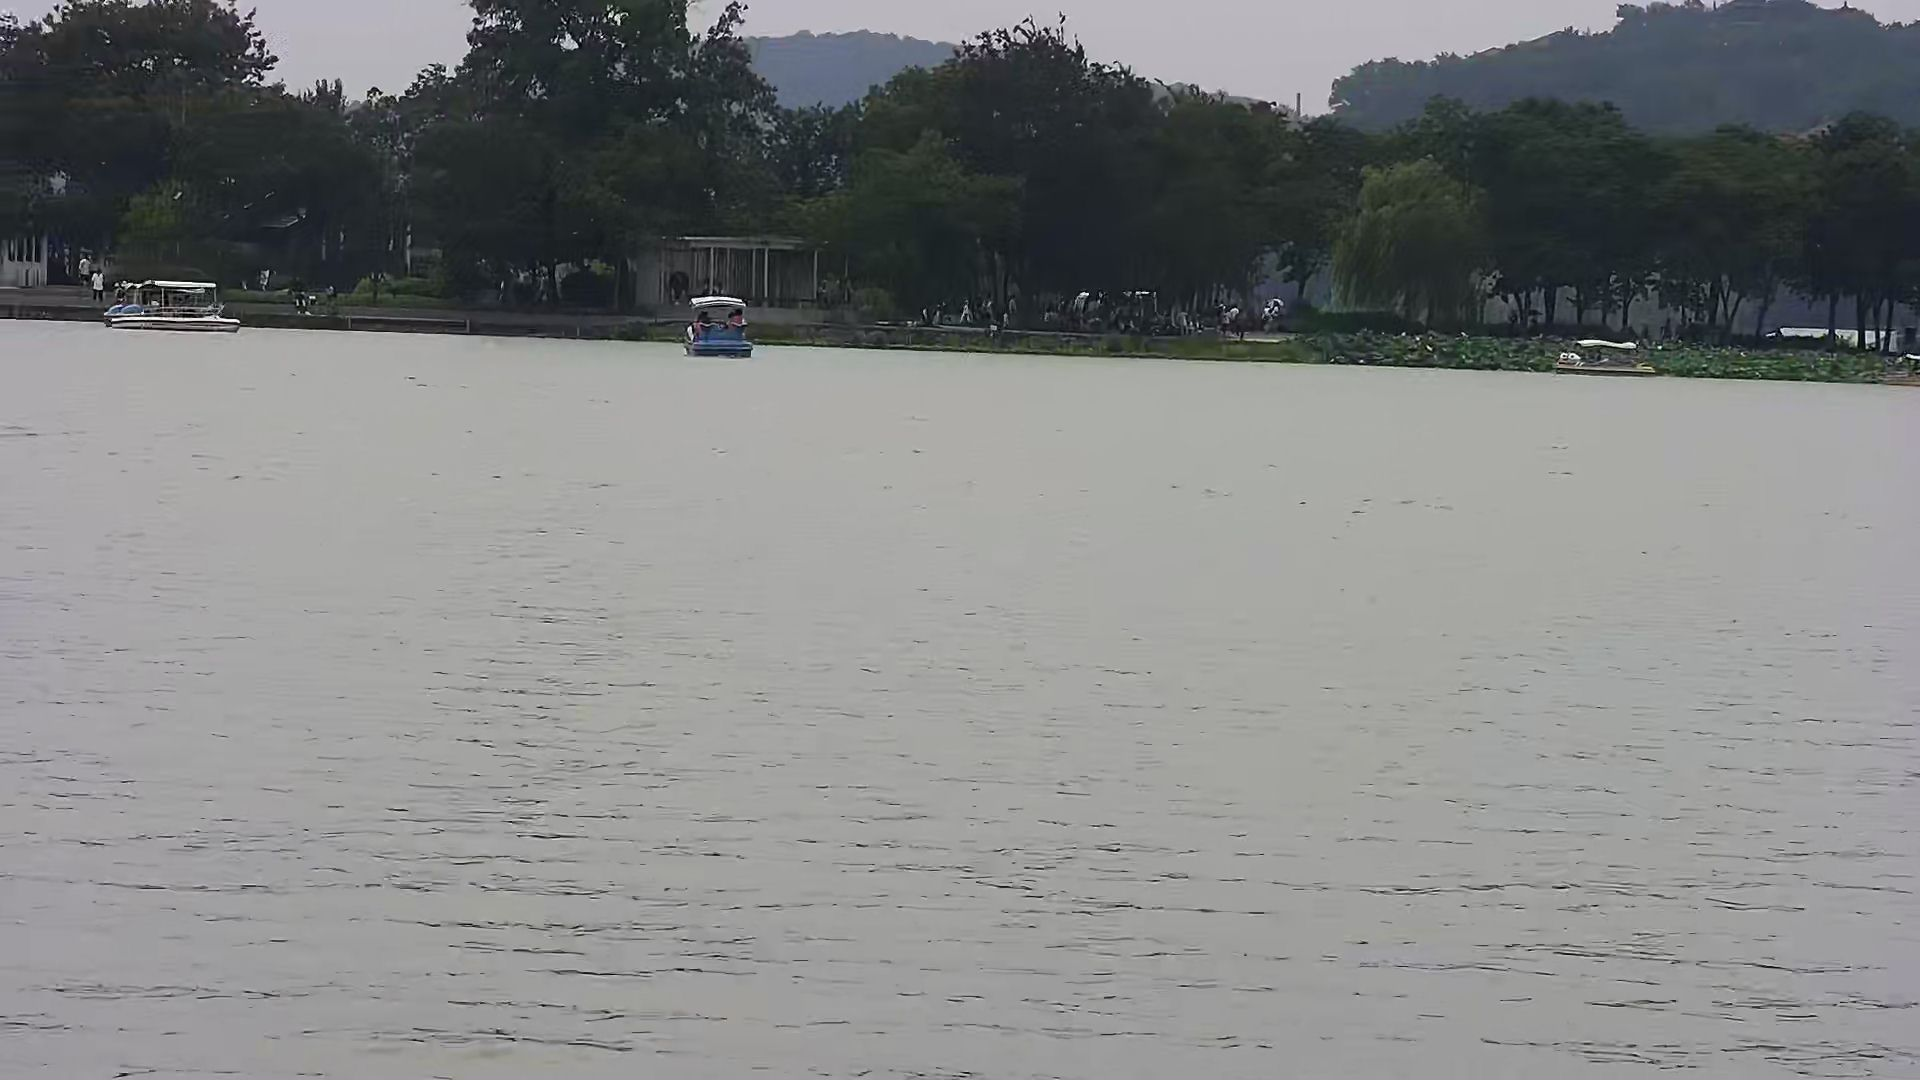boat: (99, 270, 243, 334), (679, 293, 758, 365), (1547, 334, 1662, 377)
